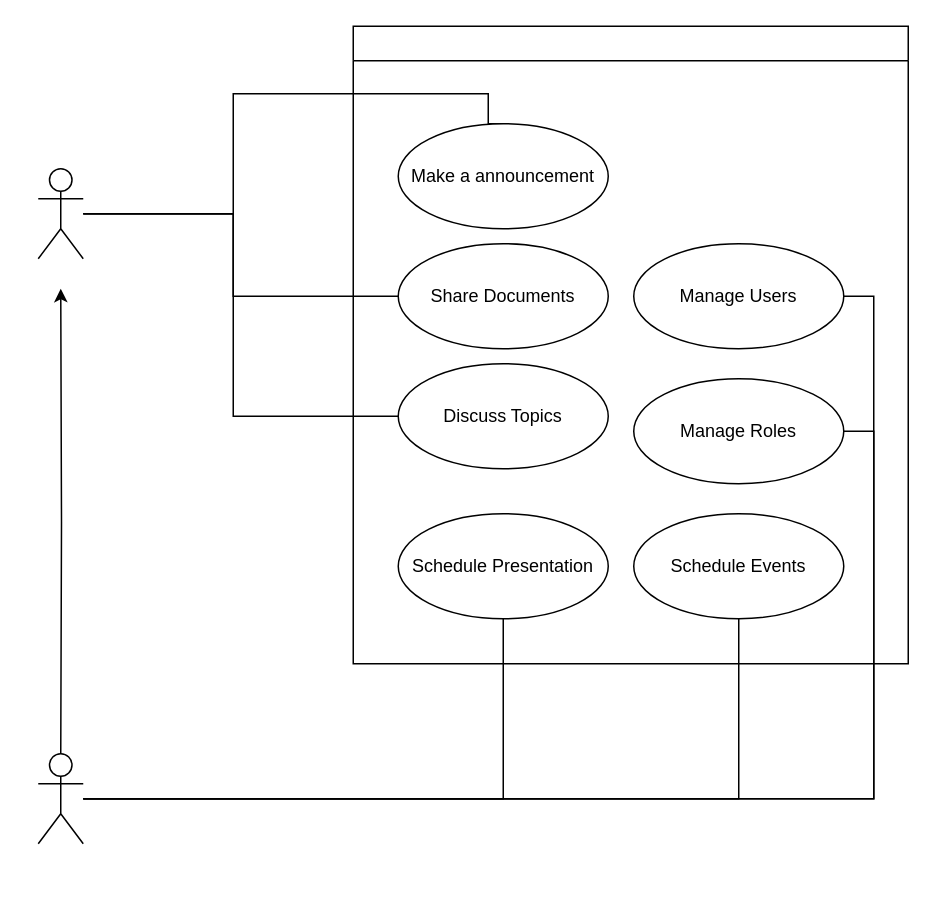
Some shapes in this 935 by 902 pixel diagram are drawn without their labels. Here are the shapes that lost their labels. From the top down, the centre of each, then its label:
pixel 60 213: User
pixel 630 344: Discord
pixel 60 798: Manager
